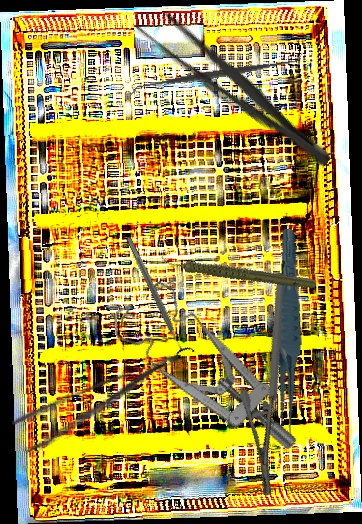Dressing Forceps: (130, 1, 341, 178), (9, 349, 195, 457)
Fixation Ring: (118, 232, 196, 361)
Handpiece: (159, 221, 318, 321)
Needle Holder: (195, 271, 354, 499)
Spatula Surgical: (127, 51, 305, 98)
Speculum: (102, 255, 301, 497)
Tissue Forceps: (263, 228, 312, 438)
